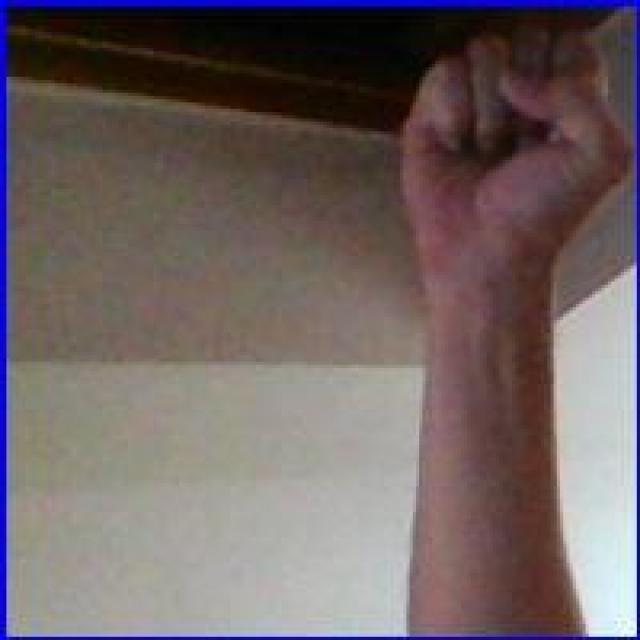S: (398, 16, 632, 285)
